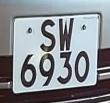0: (72, 49, 91, 87)
3: (56, 52, 75, 88)
6: (20, 54, 41, 90)
9: (39, 54, 58, 88)
S: (39, 18, 57, 55)
W: (58, 17, 76, 54)
